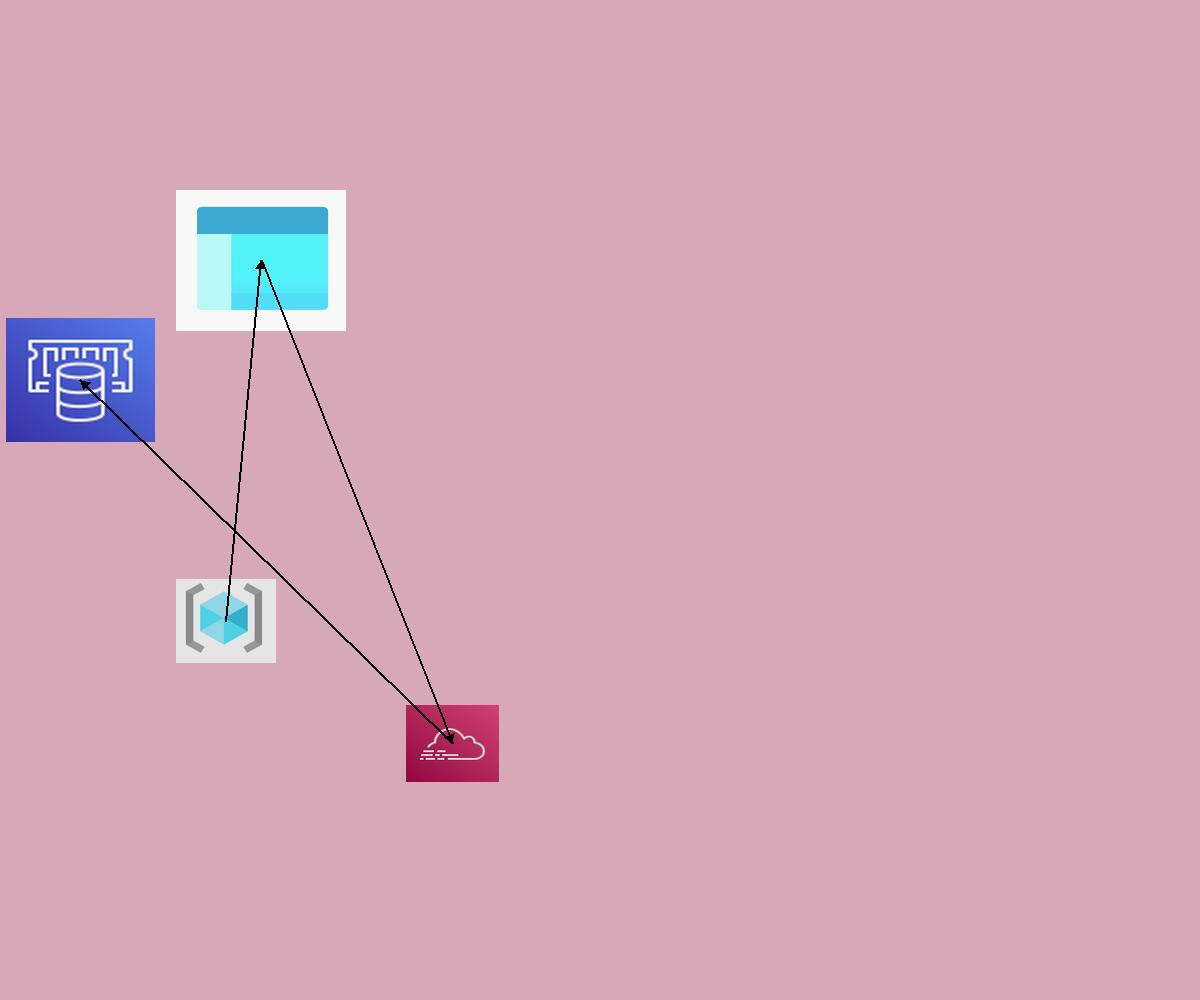AWS-CloudTrail: (406, 705, 499, 782)
AWS-ElastiCache: (6, 318, 155, 442)
Azure_management-portal: (176, 190, 346, 331)
Azure_resource_group: (176, 579, 276, 663)
